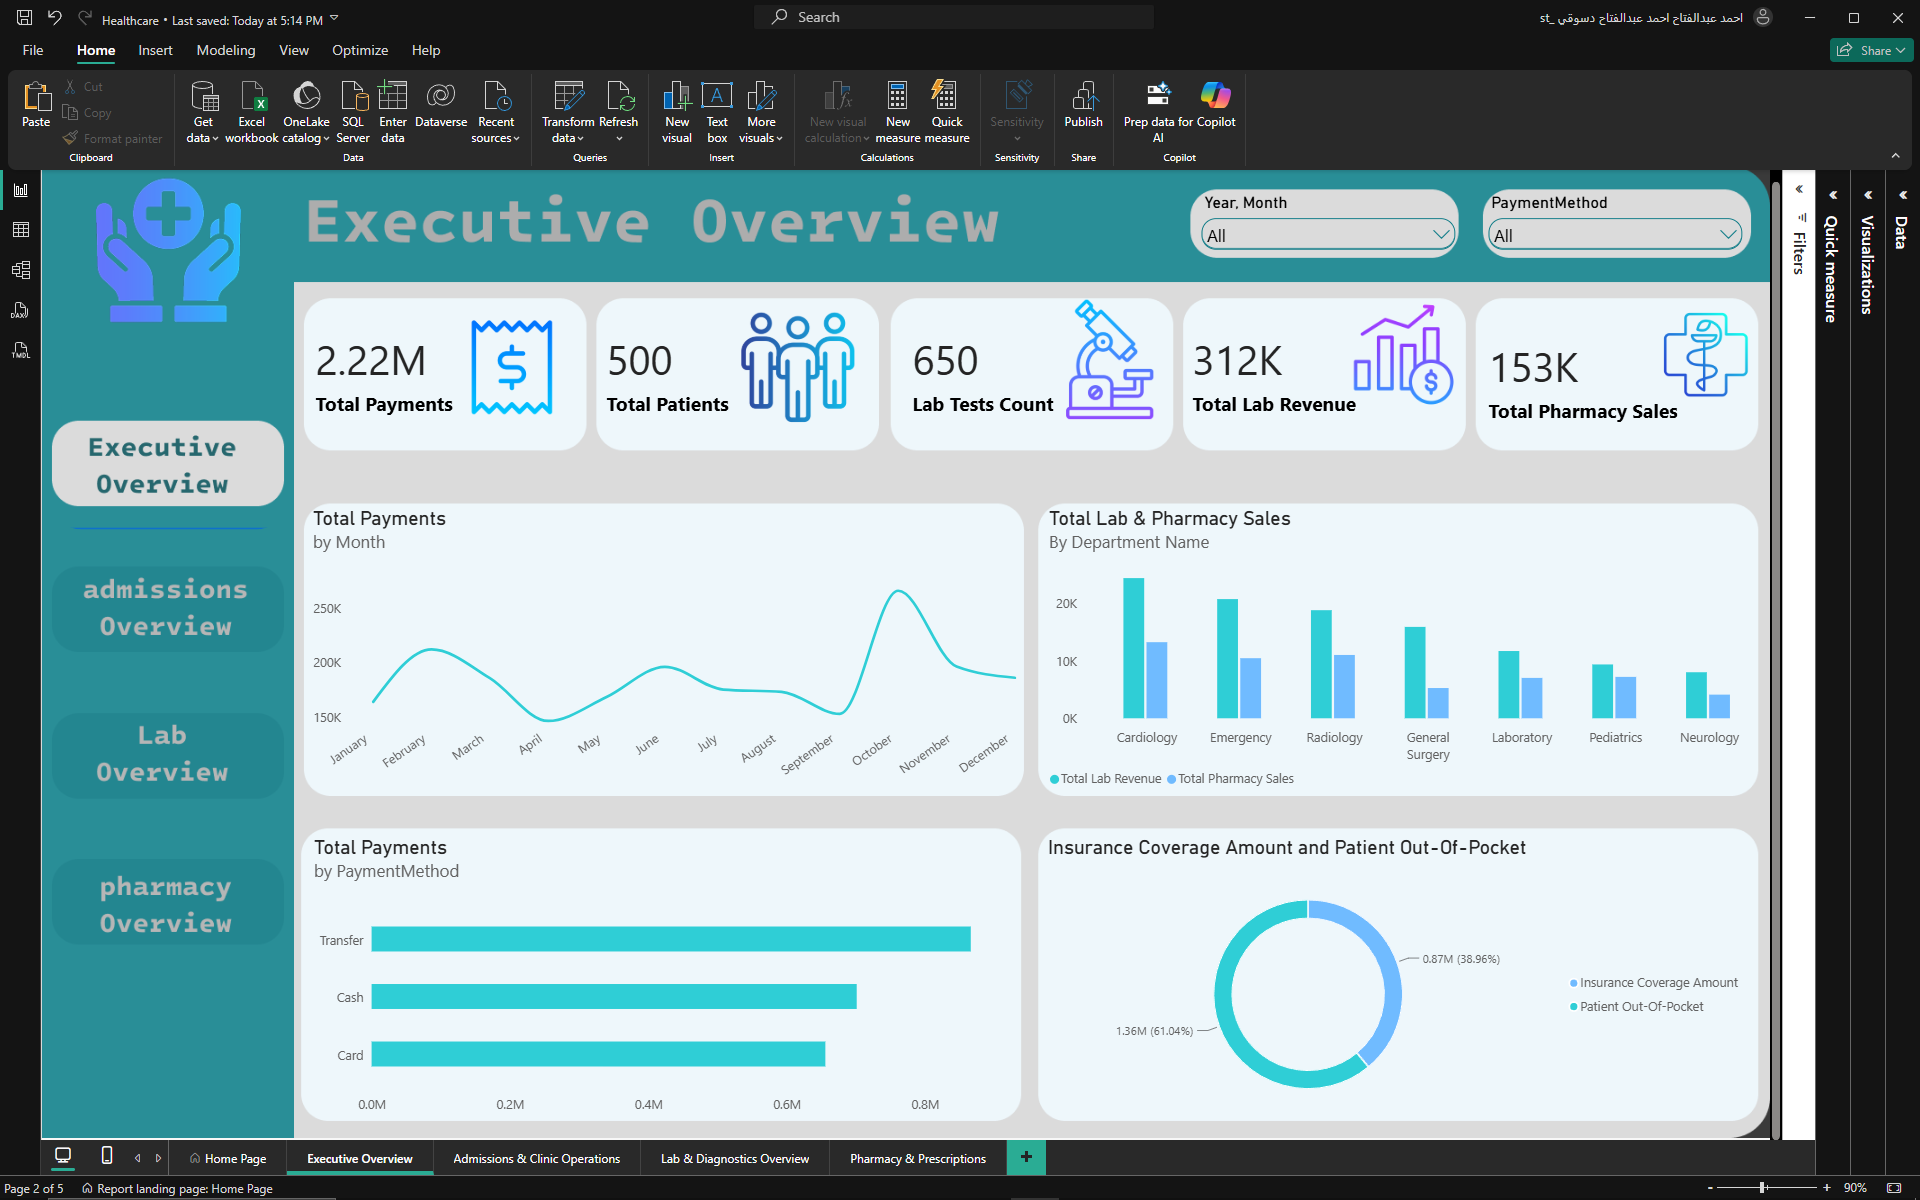

Layout of this report page (visuals, bound fields, positions):
{"tool":"powerbi","page":{"name":"Executive Overview","canvas":[1920,1080],"ordinal":0},"visuals":[{"type":"cardVisual","fields":{"Data":["Dax_measures.Total Payments"]},"box":[287.5,134.4,323.6,190.7],"z":0},{"type":"cardVisual","fields":{"Data":["Dax_measures.Total Patients"]},"box":[611.1,134.4,319.3,190.7],"z":1000},{"type":"cardVisual","fields":{"Data":["Dax_measures.Lab Tests Count"]},"box":[950.6,134.4,312.1,190.7],"z":2000},{"type":"cardVisual","fields":{"Data":["Dax_measures.Total Lab Revenue"]},"box":[1262.7,134.4,312.1,190.7],"z":3000},{"type":"cardVisual","fields":{"Data":["Dax_measures.Total Pharmacy Sales"]},"box":[1590.7,141.7,314.9,190.7],"z":4000},{"type":"donutChart","fields":{"Y":["Dax_measures.Insurance Coverage Amount","Dax_measures.Patient Out-Of-Pocket"]},"box":[1117.9,742.6,776,311.8],"z":5000},{"type":"barChart","title":"Total Payments by Payment Method","fields":{"Category":["fact_payment.PaymentMethod"],"Y":["Dax_measures.Total Payments"]},"box":[301.7,742.6,771.6,312.9],"z":6000},{"type":"clusteredColumnChart","title":"Total Lab & Pharmacy Sales By Department Name","fields":{"Category":["dim_departments.DepartmentName"],"Y":["Dax_measures.Total Lab Revenue","Dax_measures.Total Pharmacy Sales"]},"box":[1118.4,376.5,801.6,316.8],"z":7000},{"type":"lineChart","title":"Total Payments Per Month","fields":{"Category":["DimDate.Date.Variation.Date Hierarchy.Month"],"Y":["Dax_measures.Total Payments"]},"box":[301.5,376.5,805.8,316.8],"z":8000},{"type":"slicer","fields":{"Values":["DimDate.Date.Variation.Date Hierarchy.Year","DimDate.Date.Variation.Date Hierarchy.Month"]},"box":[1282.9,27.4,291.8,65],"z":9000},{"type":"pageNavigator","box":[10.1,247,262.9,645.8],"z":10000},{"type":"slicer","fields":{"Values":["fact_payment.PaymentMethod"]},"box":[1602.2,27.4,291.8,65],"z":11000},{"type":"image","box":[430.7,154.2,181.5,133.8],"z":12000},{"type":"image","box":[758.6,154.2,161.7,133.8],"z":13000},{"type":"image","box":[1118.4,141.7,135.2,141.8],"z":14000},{"type":"image","box":[1450.5,150.5,139.6,113.2],"z":15000},{"type":"image","box":[1778,154.1,142,121.6],"z":16000}]}

Visuals, with their boxes on the page's 1920x1080 design canvas (x1, y1, x2, y2). These are canvas units, not pixel positions in the 1920x1200 screenshot, which may show the page scaled, cropped or inside an application window:
cardVisual - Dax_measures.Total Payments: box(288, 134, 611, 325)
cardVisual - Dax_measures.Total Patients: box(611, 134, 930, 325)
cardVisual - Dax_measures.Lab Tests Count: box(951, 134, 1263, 325)
cardVisual - Dax_measures.Total Lab Revenue: box(1263, 134, 1575, 325)
cardVisual - Dax_measures.Total Pharmacy Sales: box(1591, 142, 1906, 332)
donutChart - Dax_measures.Insurance Coverage Amount x Dax_measures.Patient Out-Of-Pocket: box(1118, 743, 1894, 1054)
"Total Payments by Payment Method" barChart: box(302, 743, 1073, 1056)
"Total Lab & Pharmacy Sales By Department Name" clusteredColumnChart: box(1118, 376, 1920, 693)
"Total Payments Per Month" lineChart: box(302, 376, 1107, 693)
slicer - DimDate.Date.Variation.Date Hierarchy.Year x DimDate.Date.Variation.Date Hierarchy.Month: box(1283, 27, 1575, 92)
pageNavigator: box(10, 247, 273, 893)
slicer - fact_payment.PaymentMethod: box(1602, 27, 1894, 92)
image: box(431, 154, 612, 288)
image: box(759, 154, 920, 288)
image: box(1118, 142, 1254, 284)
image: box(1450, 150, 1590, 264)
image: box(1778, 154, 1920, 276)
